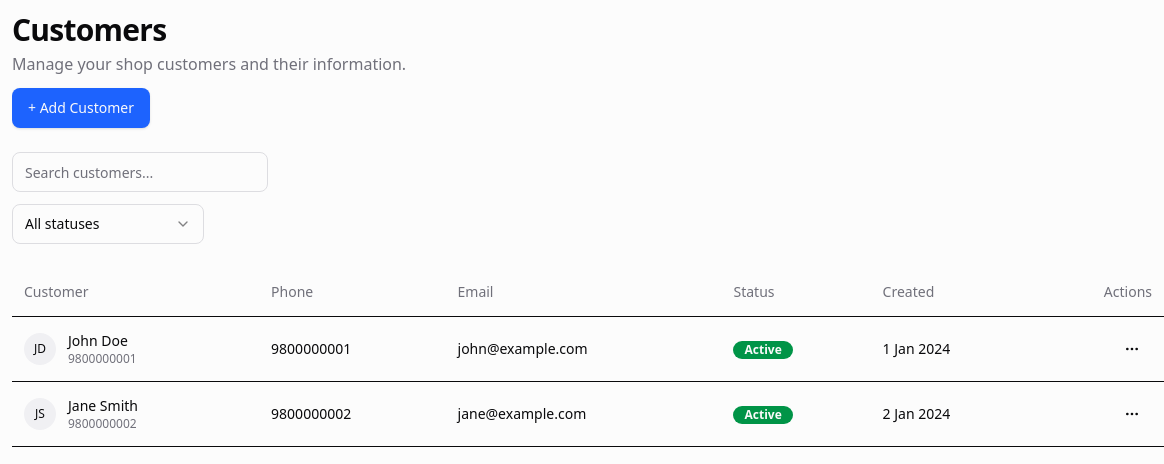
Test: CustomersPage › Status filter options are present
The image size is (1164, 464).
Expected: the text "John Doe" is shown, [68, 330, 137, 350]
Click the dropdown at point(108, 224), box [12, 204, 204, 244]
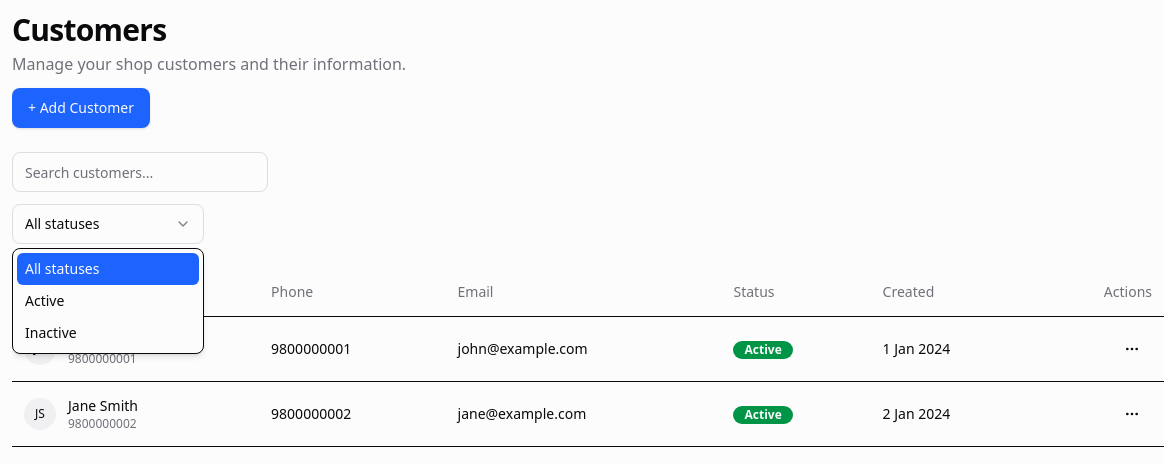
Now the option "Active" is shown, box [17, 285, 199, 317]
Now the option "Inactive" is shown, box [17, 317, 199, 349]
